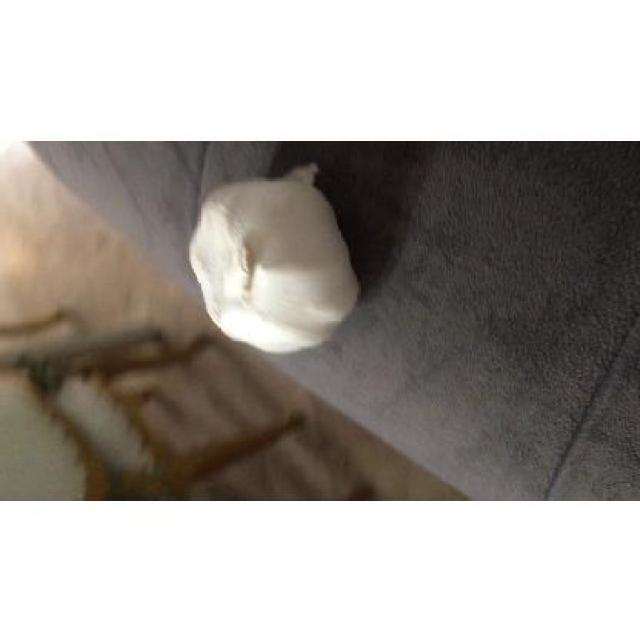garlic: (189, 164, 359, 352)
